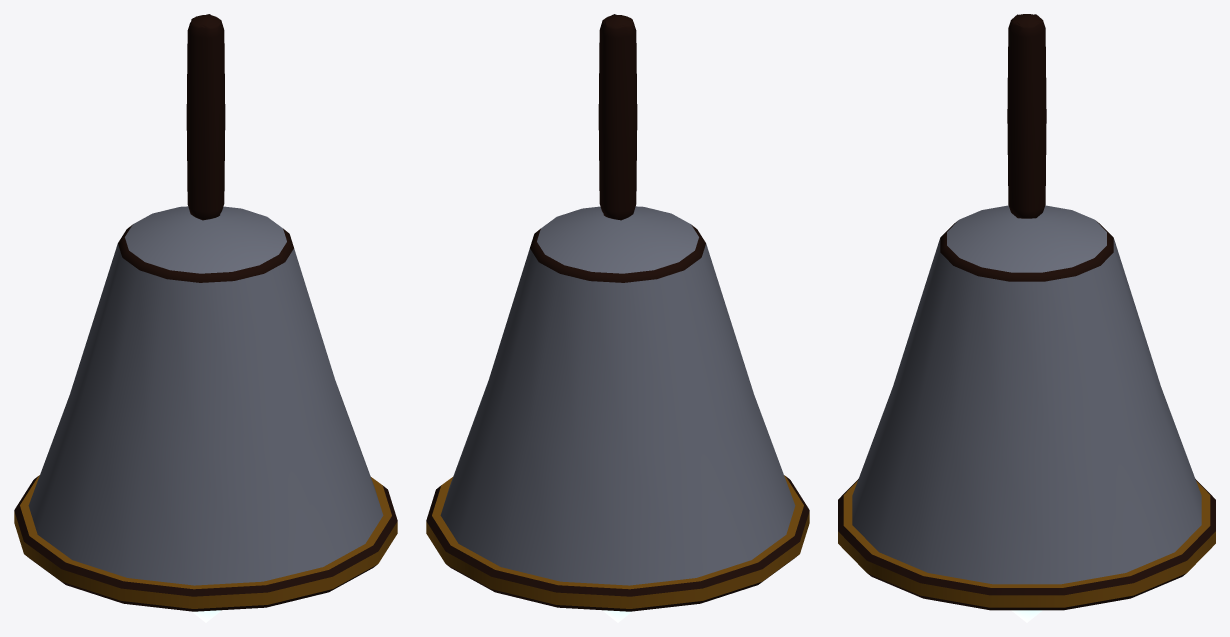
The model's file is Arma_SinoPrataVelada.fbx.
3 renders of one model, left to right at view 1: azimuth 30°, elevation 25°; view 2: azimuth 150°, elevation 25°; view 3: azimuth 270°, elevation 25°, orthographic.
Visible parts, largest first — view 1: Piece; view 2: Piece; view 3: Piece.
Boxes of the visible parts, x1,y1,x2,y2 form: Piece: (14, 14, 397, 622); Piece: (426, 14, 809, 622); Piece: (838, 14, 1215, 622).
Size of the model in its own units: 0.304 by 0.5388 by 0.304.
